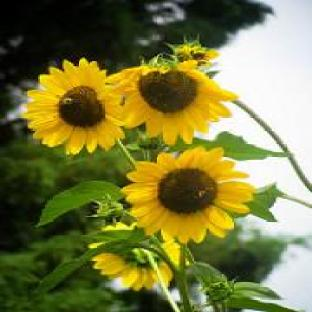sunflower: (121, 146, 257, 312), (21, 58, 135, 165)
